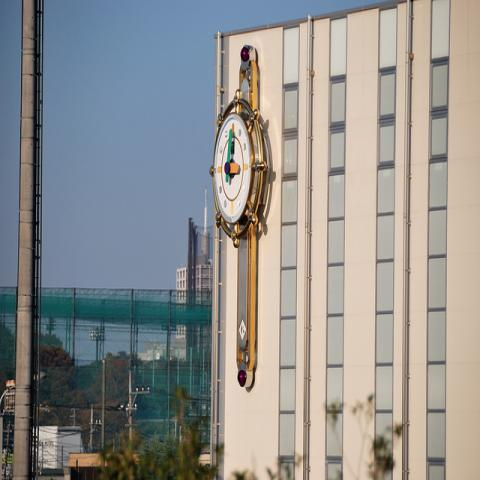truck: (33, 424, 82, 472)
